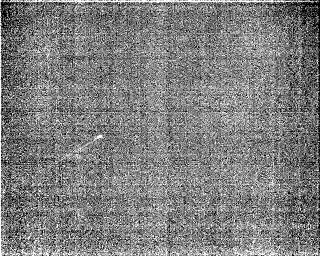AIRPLANE: (38, 133, 104, 179)
